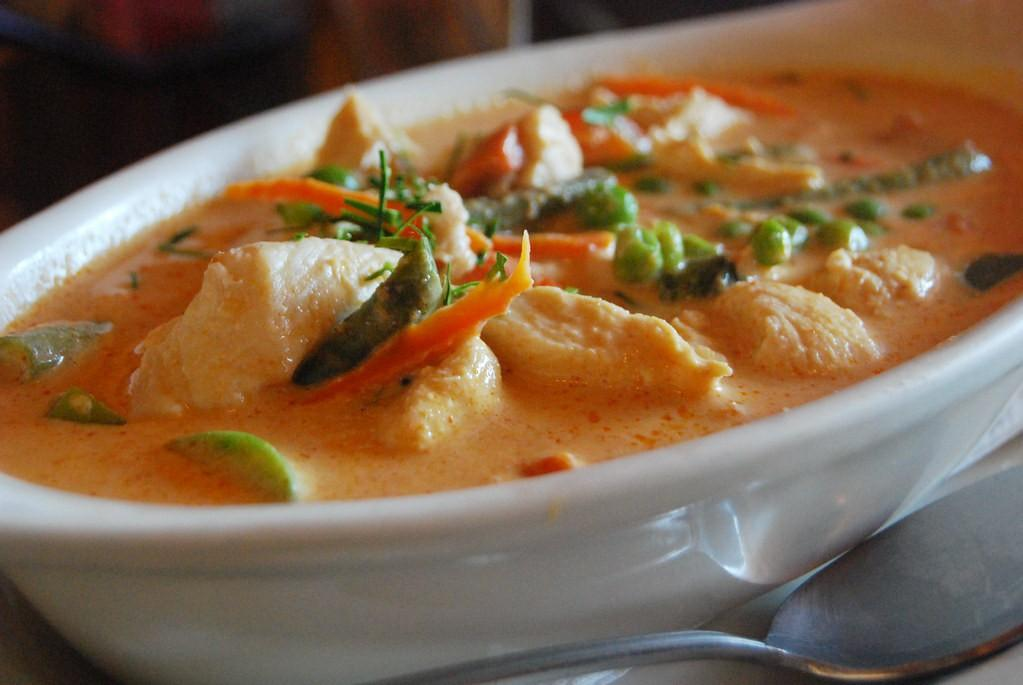ShahiPaneer: (0, 60, 1023, 500)
